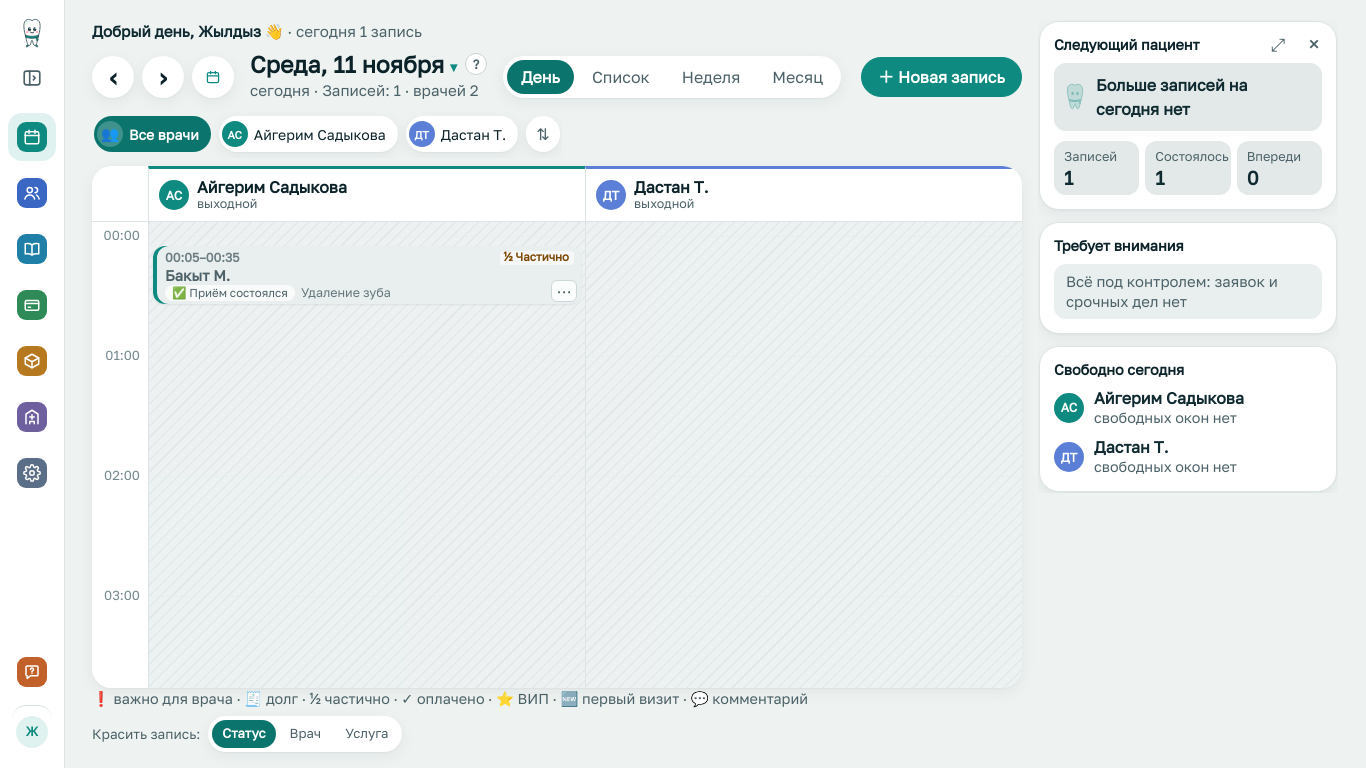
it: регистратура: памятка по услуге — «📤 Отправить пациенту» шлёт бот только по нажатию, личного сообщения нет
Click the button named "Бакыт М.".
click(367, 275)  # box left=153, top=246, right=581, bottom=304
(page scrolled)
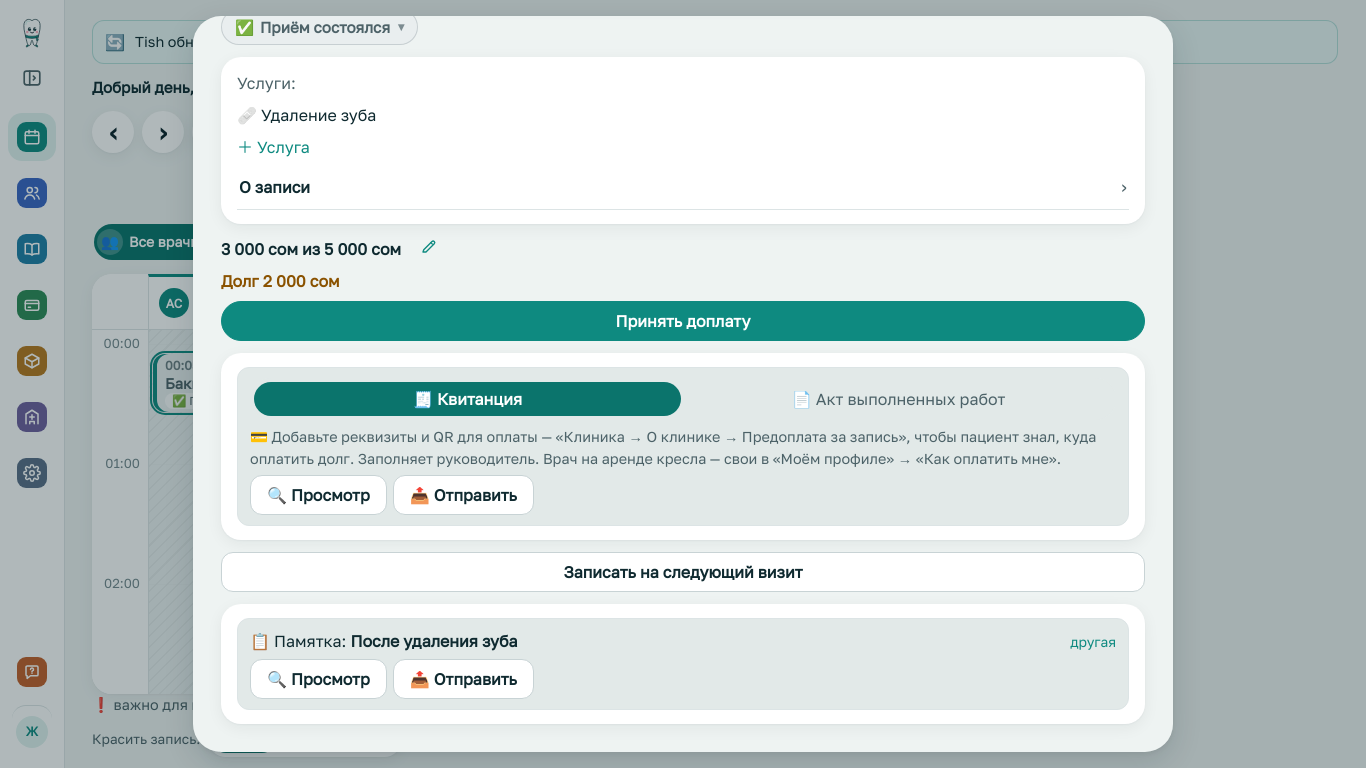
Expected: the text "После удаления зуба" is shown, left=350, top=631, right=518, bottom=651
Click the button with aria-label "Просмотр: памятка «После удаления зуба»".
click(318, 679)  # box left=250, top=659, right=387, bottom=699
(page scrolled)
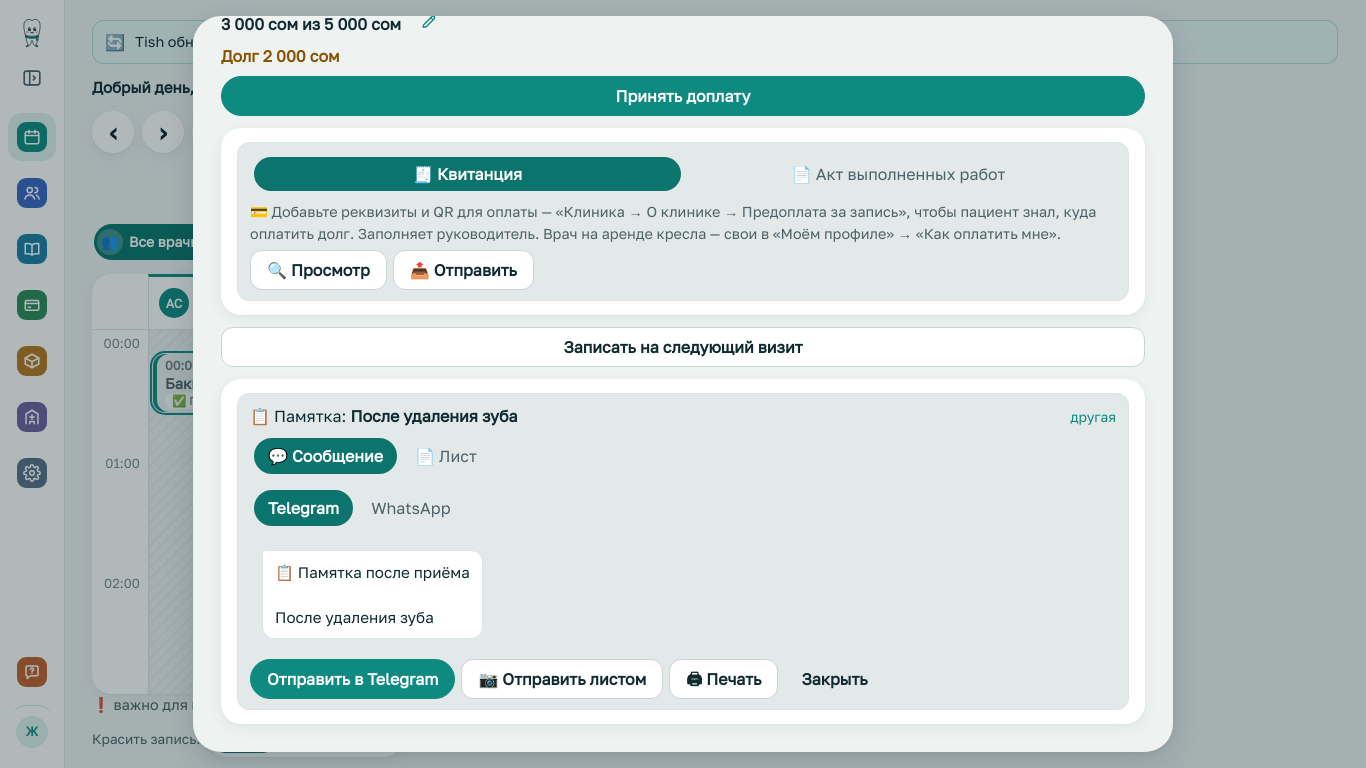
Click the button with aria-label "Отправить пациенту в Telegram: памятка «После удаления зуба»".
click(353, 678)  # box left=250, top=658, right=455, bottom=698
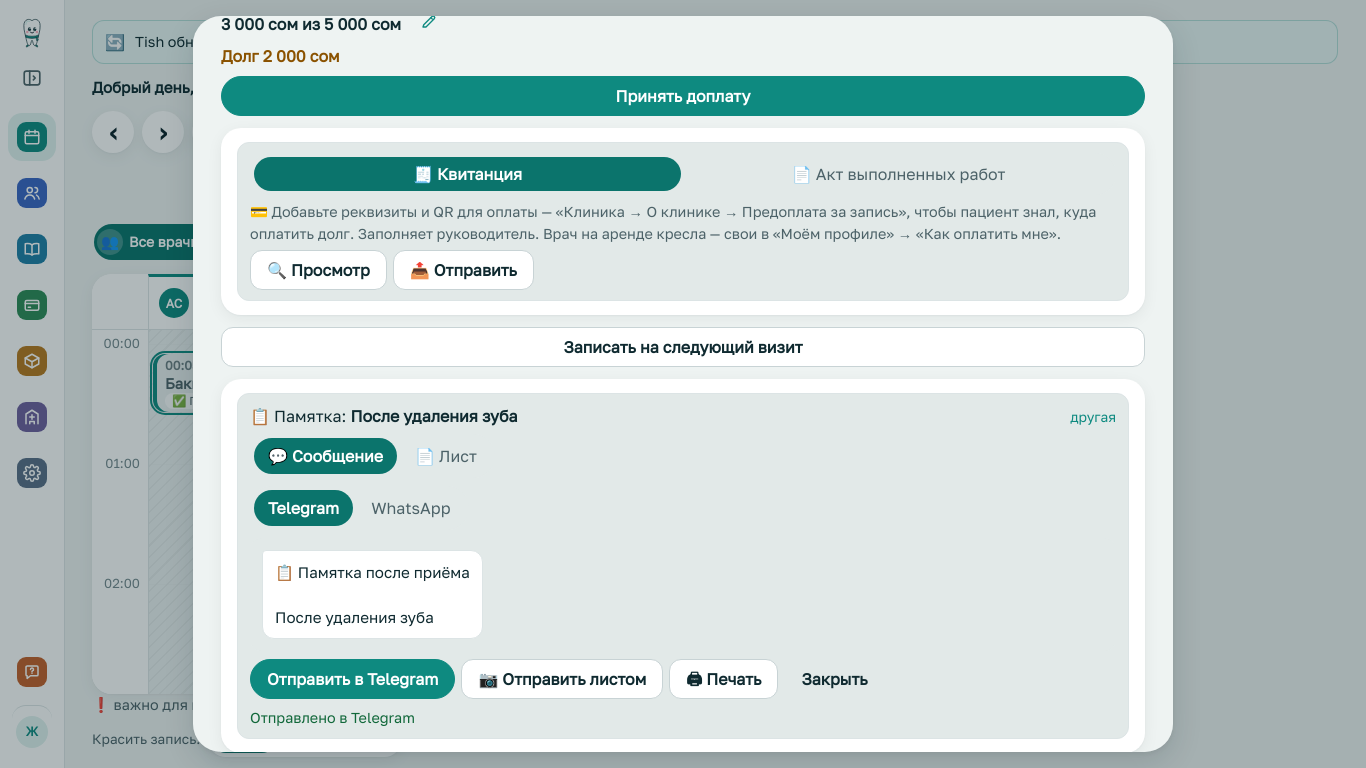
Expected: the text "Отправлено в Telegram" is shown, left=250, top=708, right=415, bottom=726
Click the button "другая".
click(1093, 418)  # box left=1070, top=407, right=1116, bottom=428
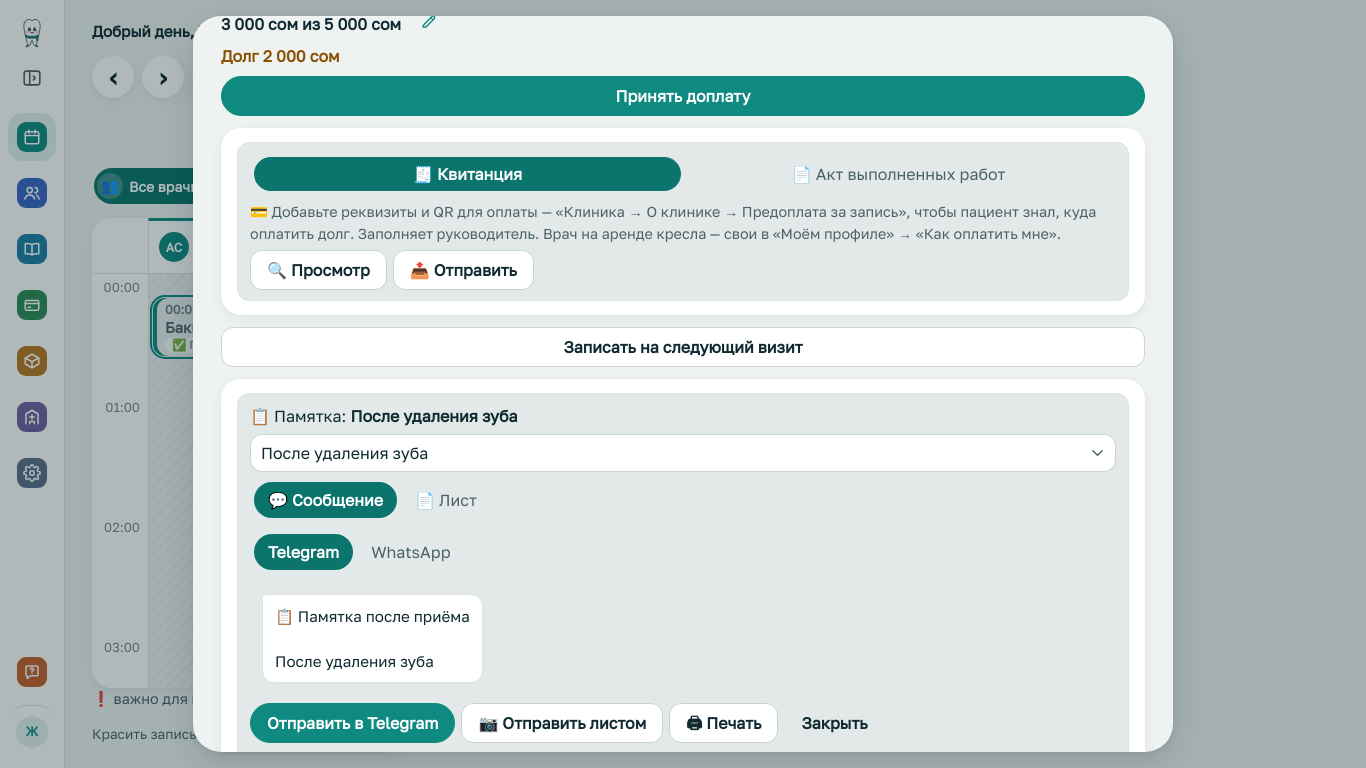
Click the dropdown named "Выбрать памятку".
click(345, 453)  # box left=250, top=434, right=1116, bottom=472
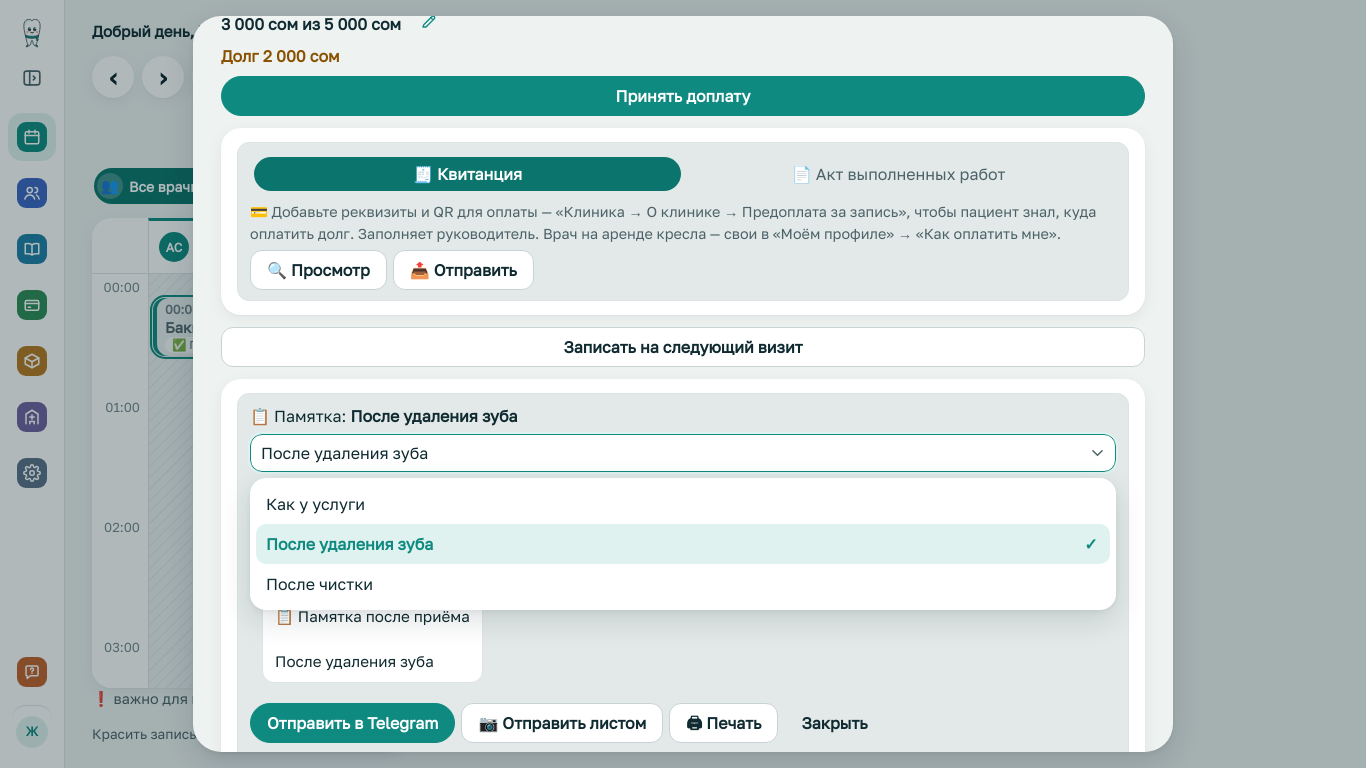
Click the option "После чистки".
click(320, 584)  # box left=266, top=574, right=373, bottom=594
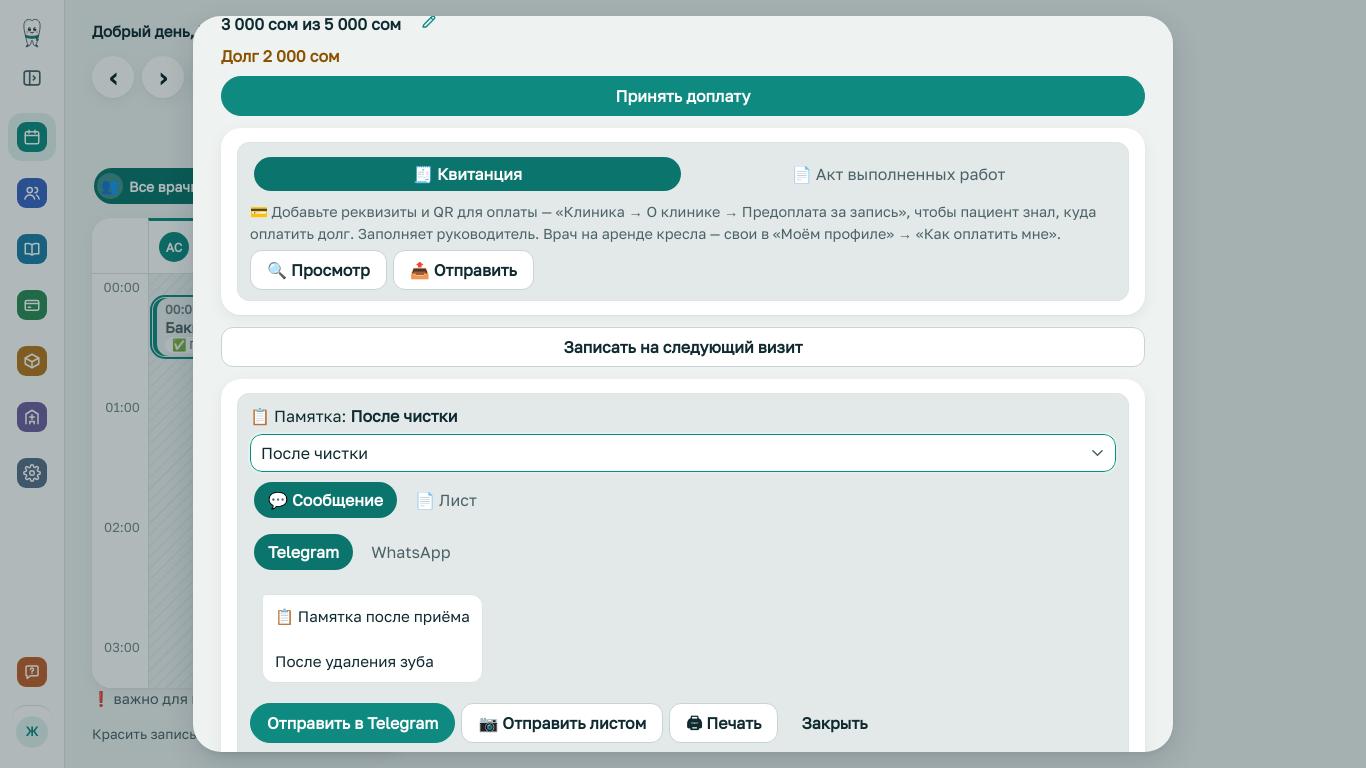
Expected: the text "После чистки" next to "📋 Памятка:" is shown, left=350, top=406, right=458, bottom=426
